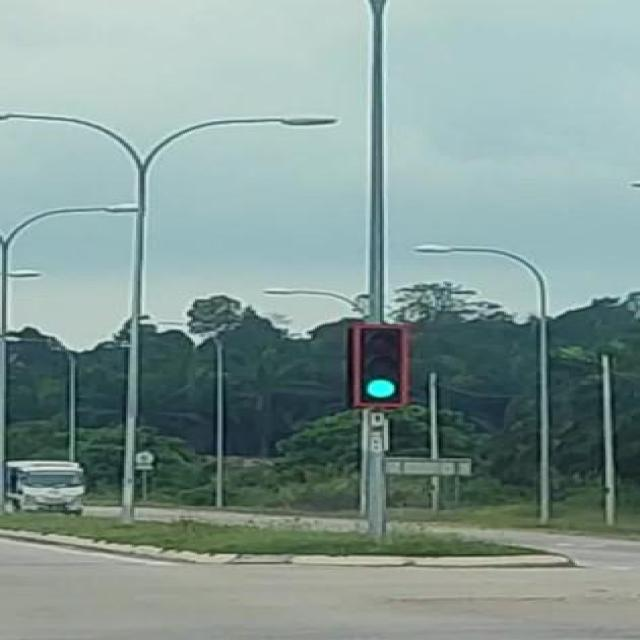car: (4, 460, 86, 517)
traffic light: (351, 324, 411, 410)
